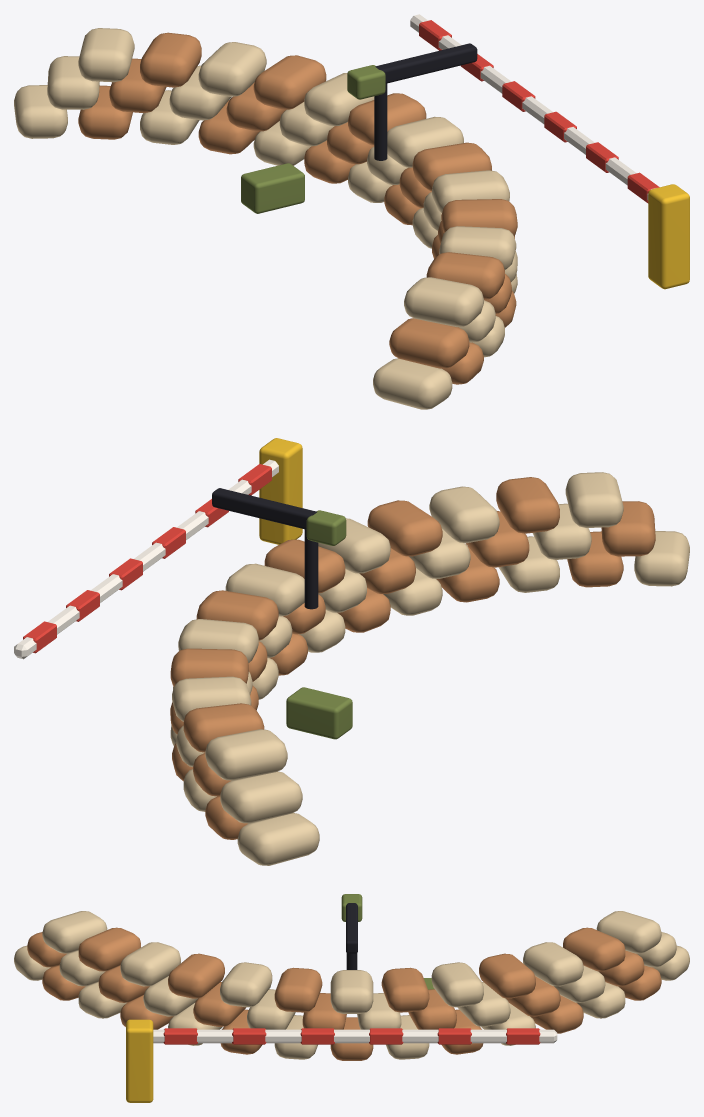
The model's file is sandbags.glb.
The picture shows the model from 3 angles, top to bottom: view 1: azimuth 30°, elevation 25°; view 2: azimuth 150°, elevation 25°; view 3: azimuth 270°, elevation 25°; orthographic projection. The views are drawn at different scales.
Parts seen in each view (by area): view 1: sandbags; view 2: sandbags; view 3: sandbags.
Part boxes in pixels (box(x1,y1,x2,y2)): sandbags: box(14, 14, 689, 409); sandbags: box(14, 438, 689, 865); sandbags: box(14, 894, 689, 1102).
Size of the model in its own units: 4.95 by 2.1 by 9.87.
Materials: 1 (1 with a texture image).
